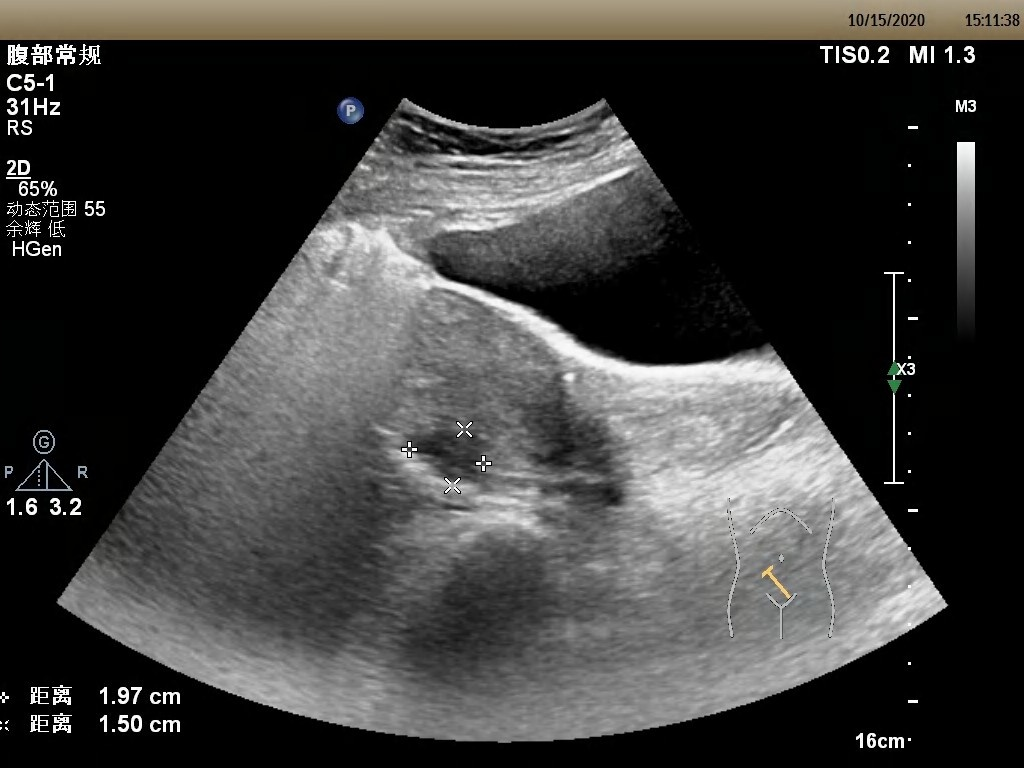肌瘤: (408, 431, 485, 483)
